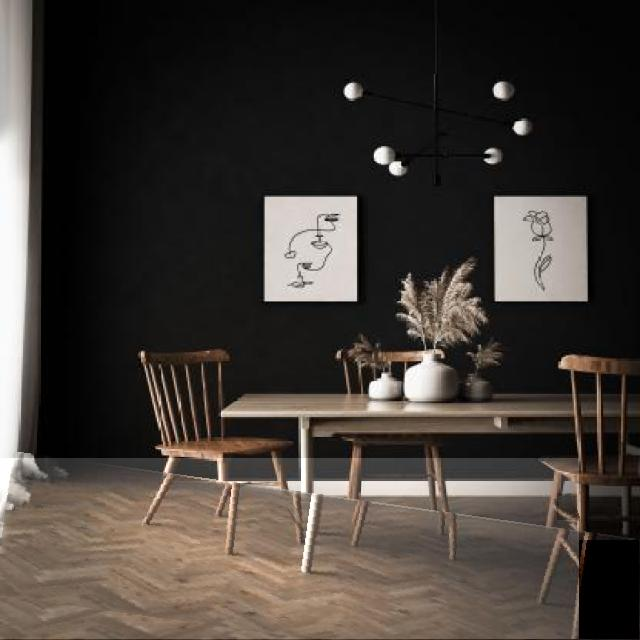floor: (0, 458, 579, 640), (579, 540, 639, 640), (284, 497, 306, 528), (557, 494, 580, 520), (606, 508, 623, 530)
